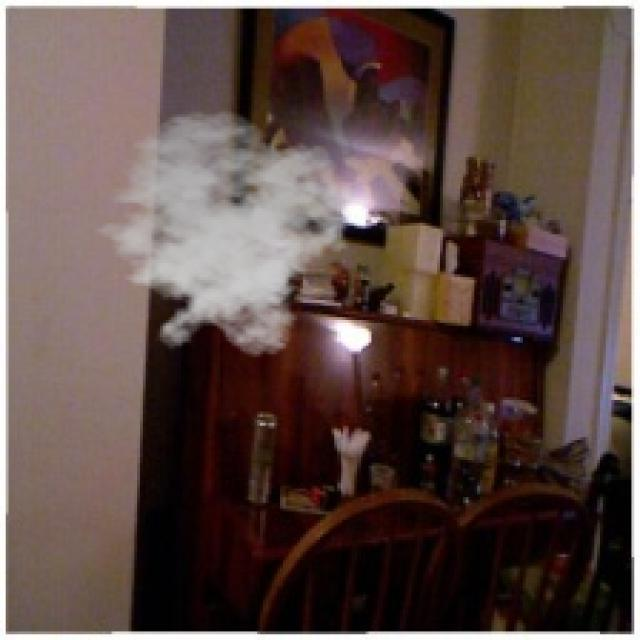Smoke: (80, 109, 360, 358)
